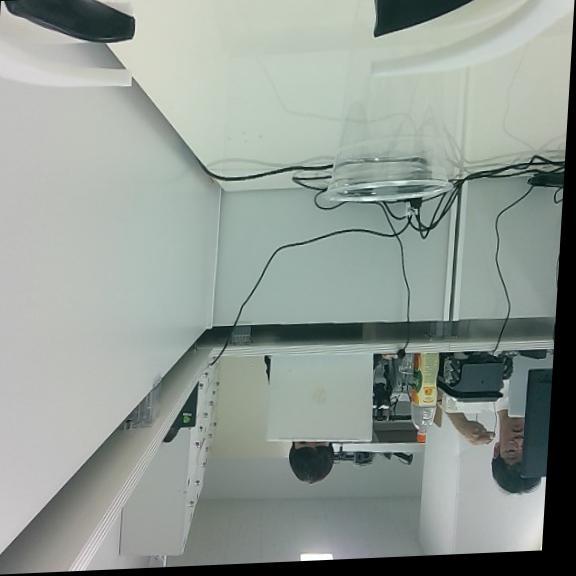Plastik: (327, 0, 447, 201)
